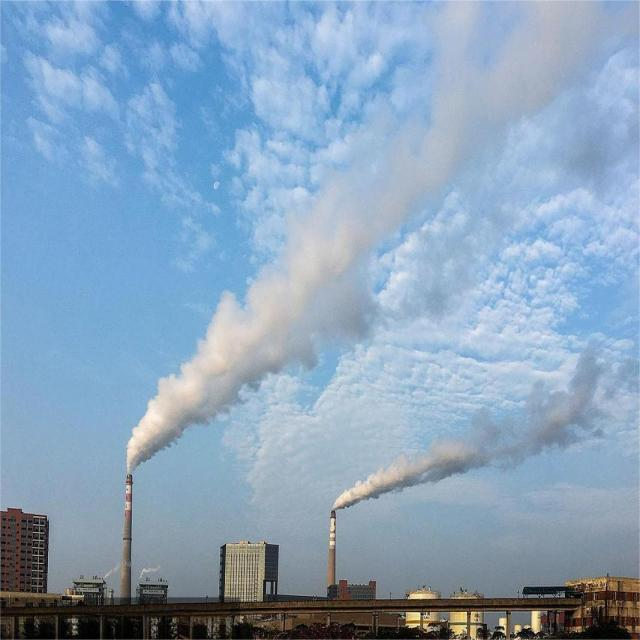Smoke: (127, 8, 639, 473), (330, 364, 606, 514)
